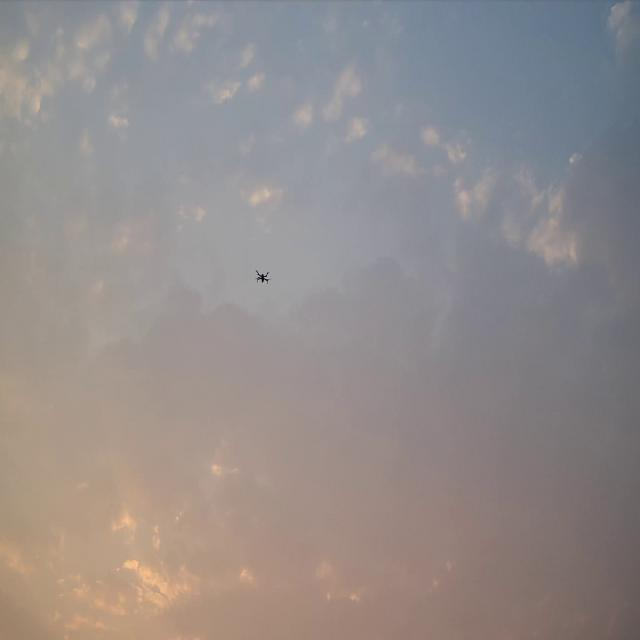UAV: (254, 269, 272, 284)
